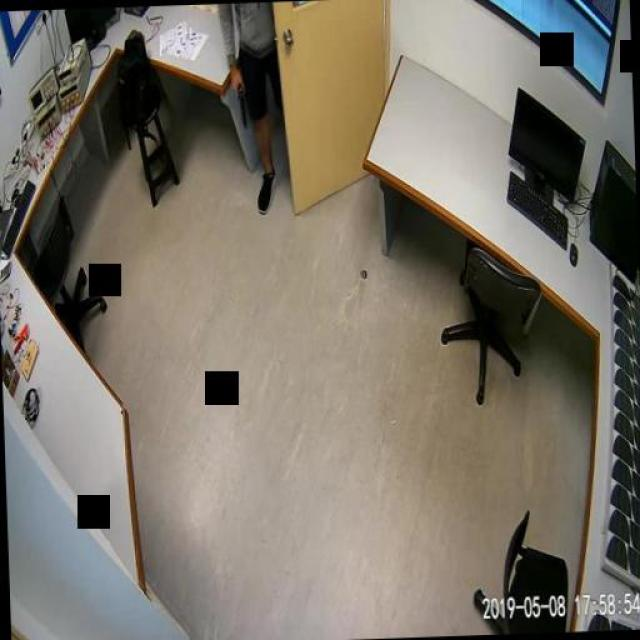gun: (229, 74, 245, 126)
